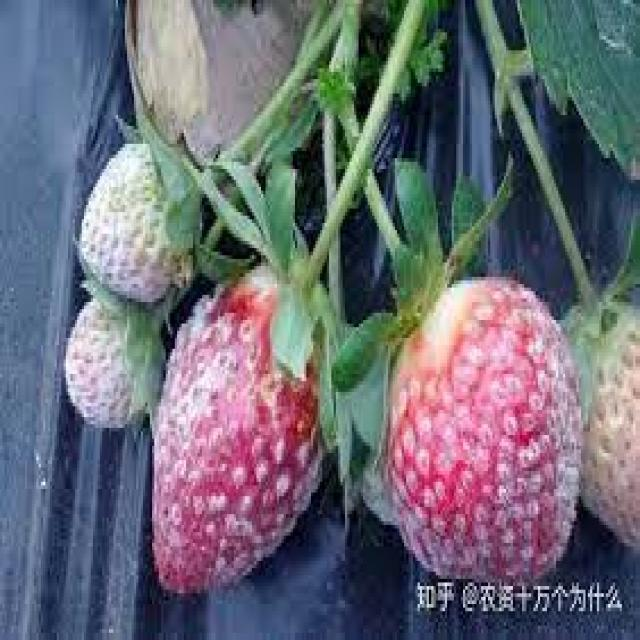Oído: (378, 253, 586, 592), (165, 243, 334, 579), (562, 276, 640, 550), (60, 142, 187, 300), (53, 296, 158, 423)
